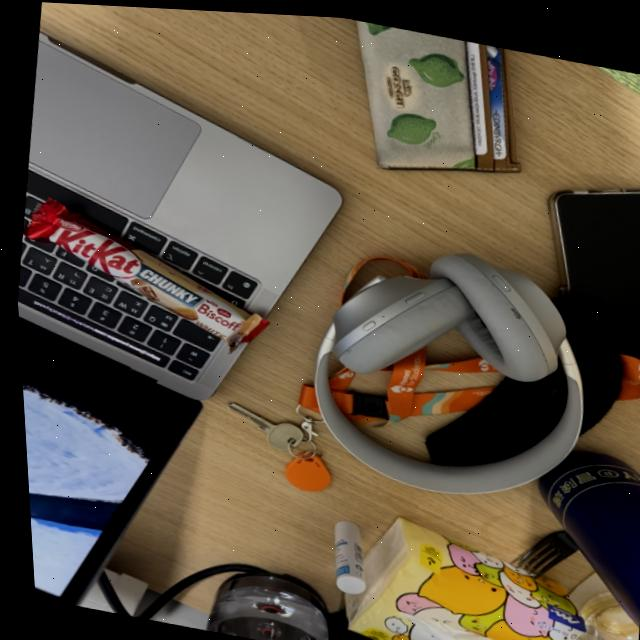chocolate: (9, 189, 289, 359)
